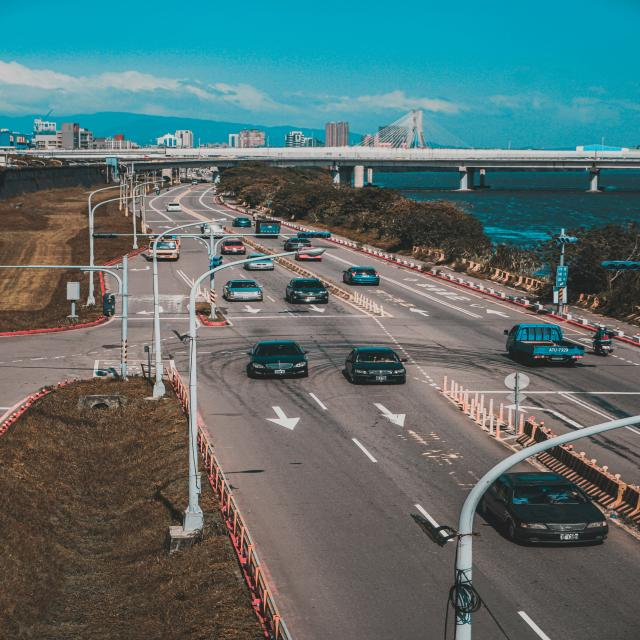Car: (476, 472, 609, 545), (246, 340, 309, 379), (344, 347, 406, 384), (285, 278, 329, 304), (222, 280, 263, 302), (342, 266, 380, 286), (243, 254, 274, 270), (295, 247, 326, 261), (220, 238, 246, 254), (283, 238, 312, 251), (233, 217, 251, 227), (166, 202, 182, 212)
Motorcycle: (590, 333, 614, 356)
Pickup: (502, 323, 584, 366)
